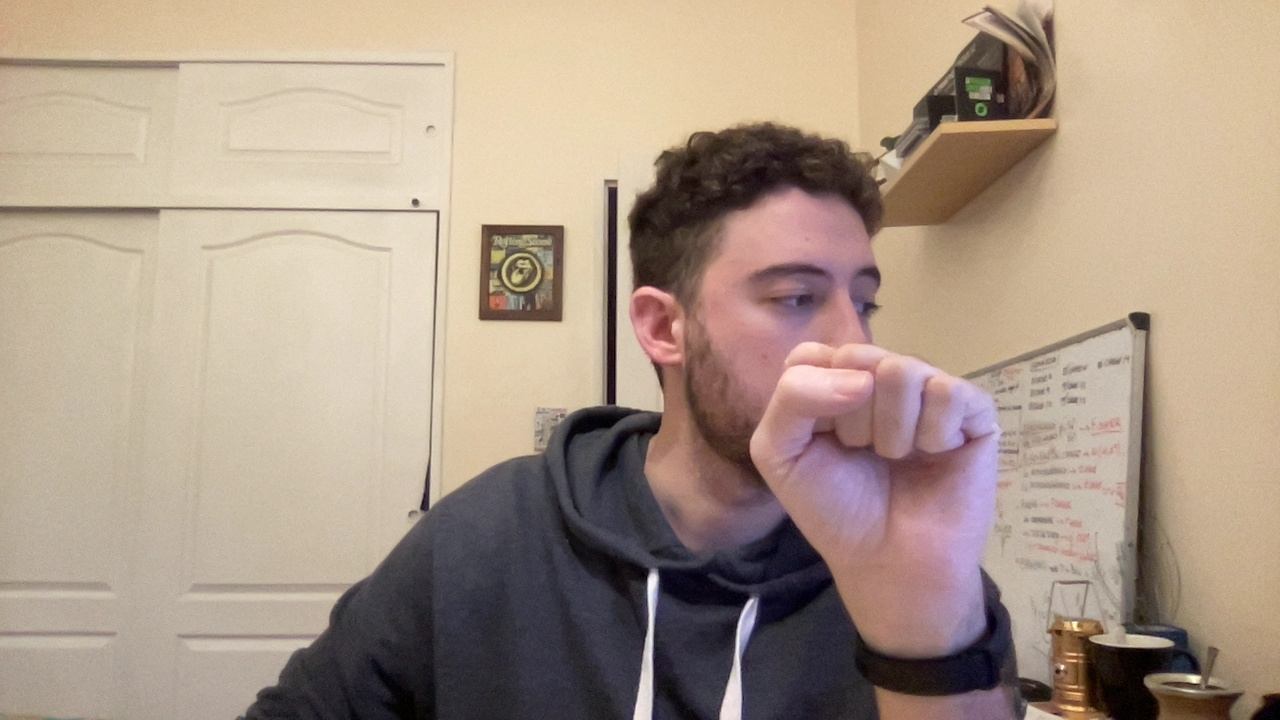cerrado: (731, 318, 1046, 574)
